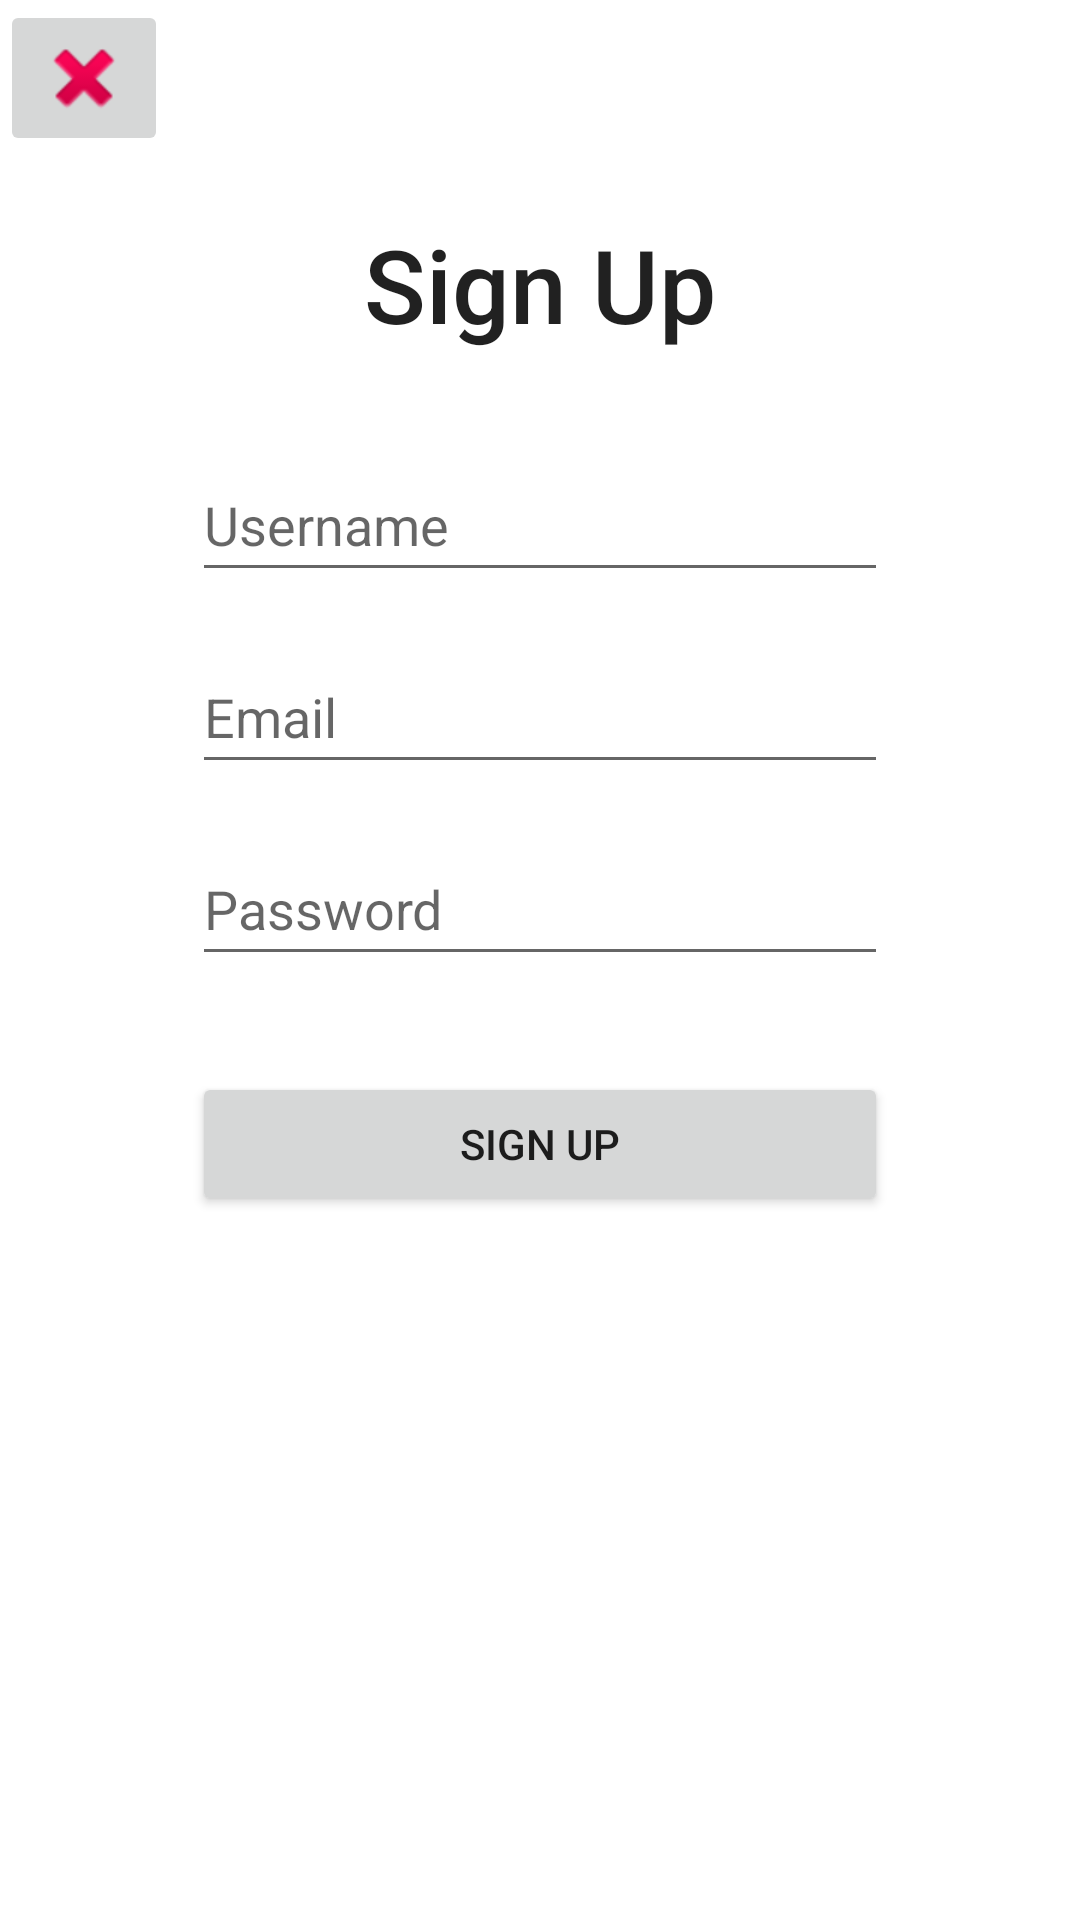

Screen size 1080 × 1920. Icon name, then its center in pixels as [x,y]:
delete: [84,78]
